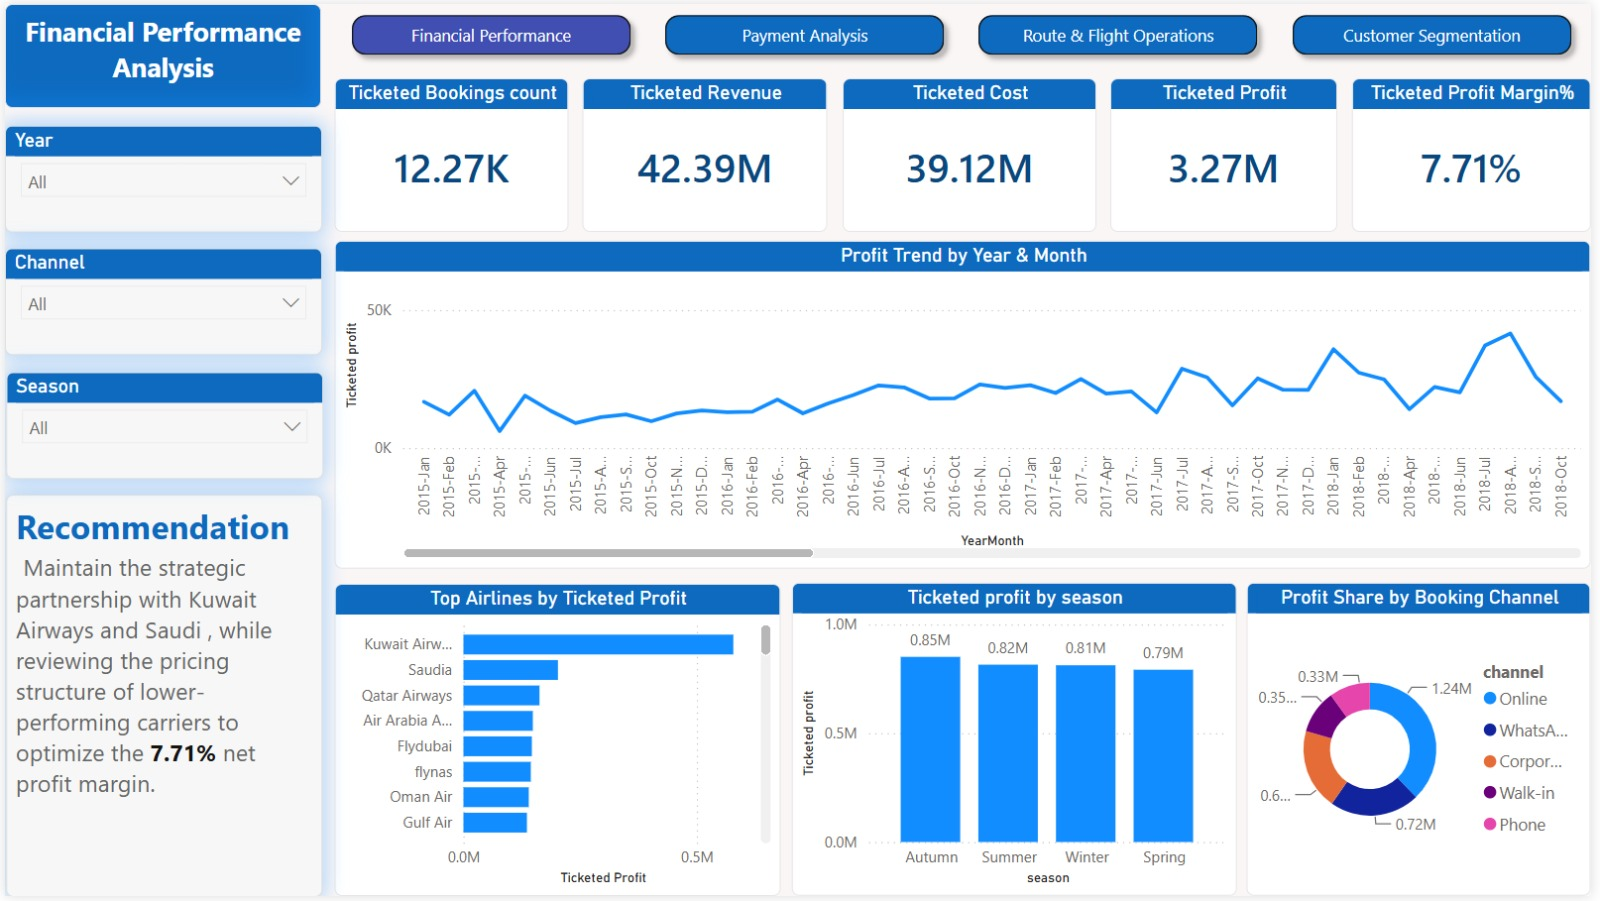

This screenshot's page, from the dashboard's own definition file:
{"tool":"powerbi","page":{"name":"Financial Performance","canvas":[1280,720],"ordinal":0},"visuals":[{"type":"cardVisual","title":"Ticketed Bookings count","fields":{"Data":["_All Measures.Ticketed Bookings"]},"box":[265.7,60,188.6,124.3],"z":0,"group":"g1"},{"type":"slicer","title":"Year","fields":{"Values":["Dim_Date.Year"]},"box":[0,97.5,255.7,87.1],"z":0,"group":"g2"},{"type":"lineChart","title":"Profit Trend by Year & Month","fields":{"Category":["Dim_Date.YearMonth"],"Y":["_All Measures.Ticketed profit"]},"box":[265.7,191.4,1014.3,264.3],"z":0},{"type":"slicer","title":"Channel","fields":{"Values":["bookings.channel"]},"box":[0,196.8,255.7,87.1],"z":0,"group":"g3"},{"type":"slicer","title":"Season","fields":{"Values":["bookings.season"]},"box":[1.2,296.7,255.7,87.1],"z":0,"group":"g4"},{"type":"textbox","box":[1.4,395.9,254.3,324.1],"z":0,"group":"g6"},{"type":"group","id":"g1","title":"Group 2","box":[265.7,60,1014.3,124.3],"z":1000},{"type":"cardVisual","title":"Ticketed Revenue","fields":{"Data":["_All Measures.Ticketed Revenue"]},"box":[465.6,60,198.6,124.3],"z":1000,"group":"g1"},{"type":"group","id":"g2","title":"Group 1","box":[0,97.5,255.7,87.1],"z":1000,"group":"g7"},{"type":"pageNavigator","box":[271.4,0,1001.4,50],"z":2000},{"type":"cardVisual","title":"Ticketed Cost","fields":{"Data":["_All Measures.Ticketed cost"]},"box":[675.4,60,204.9,124.3],"z":2000,"group":"g1"},{"type":"group","id":"g3","title":"Group 1","box":[0,196.8,256.2,87.4],"z":2000,"group":"g7"},{"type":"cardVisual","title":"Ticketed Profit","fields":{"Data":["_All Measures.Ticketed profit"]},"box":[891.5,60,183.6,124.3],"z":3000,"group":"g1"},{"type":"group","id":"g4","title":"Group 1","box":[1.2,296.7,256.2,87.4],"z":3000,"group":"g7"},{"type":"group","id":"g5","title":"Group 3","box":[265.7,467.1,1014.3,252.9],"z":3000},{"type":"cardVisual","title":"Ticketed Profit Margin%","fields":{"Data":["_All Measures.Ticketed Profit Margin %"]},"box":[1086.4,60,193.6,124.3],"z":4000,"group":"g1"},{"type":"textbox","box":[0,0,255,83.5],"z":5000},{"type":"clusteredBarChart","title":"Top Airlines by Ticketed Profit","fields":{"Category":["airlines_lookup.airline_name"],"Y":["_All Measures.Ticketed profit"]},"box":[265.7,467.8,360.1,251.9],"z":7000,"group":"g5"},{"type":"group","id":"g6","title":"Group 4","box":[0,97.5,257.5,622.5],"z":7001},{"type":"group","id":"g7","title":"Group 5","box":[0,97.5,257.5,286.7],"z":7002,"group":"g6"},{"type":"donutChart","title":"Profit Share by Booking Channel","fields":{"Category":["bookings.channel"],"Y":["_All Measures.Ticketed profit"]},"box":[1001.5,467.5,278.5,252.5],"z":9000,"group":"g5"},{"type":"columnChart","fields":{"Category":["bookings.season"],"Y":["_All Measures.Ticketed profit"]},"box":[634.2,467.1,359.6,252.6],"z":10000,"group":"g5"}]}

Visuals, with their boxes in screenshot pixels (x1, y1, x2, y2), scaled from the page's 1280x720 canvas onto the 1600x901 screenshot:
"Ticketed Bookings count" cardVisual: x1=332 y1=75 x2=568 y2=231
"Year" slicer: x1=0 y1=122 x2=320 y2=231
"Profit Trend by Year & Month" lineChart: x1=332 y1=240 x2=1599 y2=570
"Channel" slicer: x1=0 y1=246 x2=320 y2=355
"Season" slicer: x1=2 y1=371 x2=321 y2=480
textbox: x1=2 y1=495 x2=320 y2=900
"Group 2" group: x1=332 y1=75 x2=1599 y2=231
"Ticketed Revenue" cardVisual: x1=582 y1=75 x2=830 y2=231
"Group 1" group: x1=0 y1=122 x2=320 y2=231
pageNavigator: x1=339 y1=0 x2=1591 y2=63
"Ticketed Cost" cardVisual: x1=844 y1=75 x2=1100 y2=231
"Group 1" group: x1=0 y1=246 x2=320 y2=356
"Ticketed Profit" cardVisual: x1=1114 y1=75 x2=1344 y2=231
"Group 1" group: x1=2 y1=371 x2=322 y2=481
"Group 3" group: x1=332 y1=585 x2=1599 y2=900
"Ticketed Profit Margin%" cardVisual: x1=1358 y1=75 x2=1599 y2=231
textbox: x1=0 y1=0 x2=319 y2=104
"Top Airlines by Ticketed Profit" clusteredBarChart: x1=332 y1=585 x2=782 y2=900
"Group 4" group: x1=0 y1=122 x2=322 y2=900
"Group 5" group: x1=0 y1=122 x2=322 y2=481
"Profit Share by Booking Channel" donutChart: x1=1252 y1=585 x2=1599 y2=900
columnChart - bookings.season x _All Measures.Ticketed profit: x1=793 y1=585 x2=1242 y2=900
